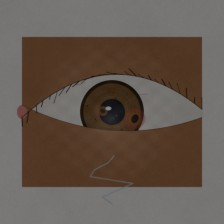foreign_body_visible: (90, 101, 116, 122)
